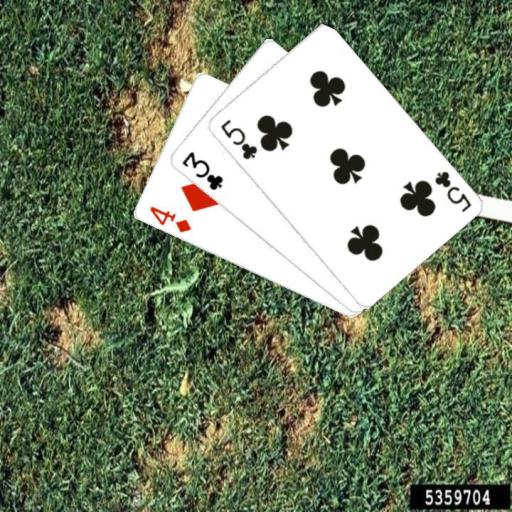3C: (178, 148, 225, 192)
4D: (146, 203, 193, 235)
5C: (216, 116, 259, 161), (431, 168, 472, 213)
